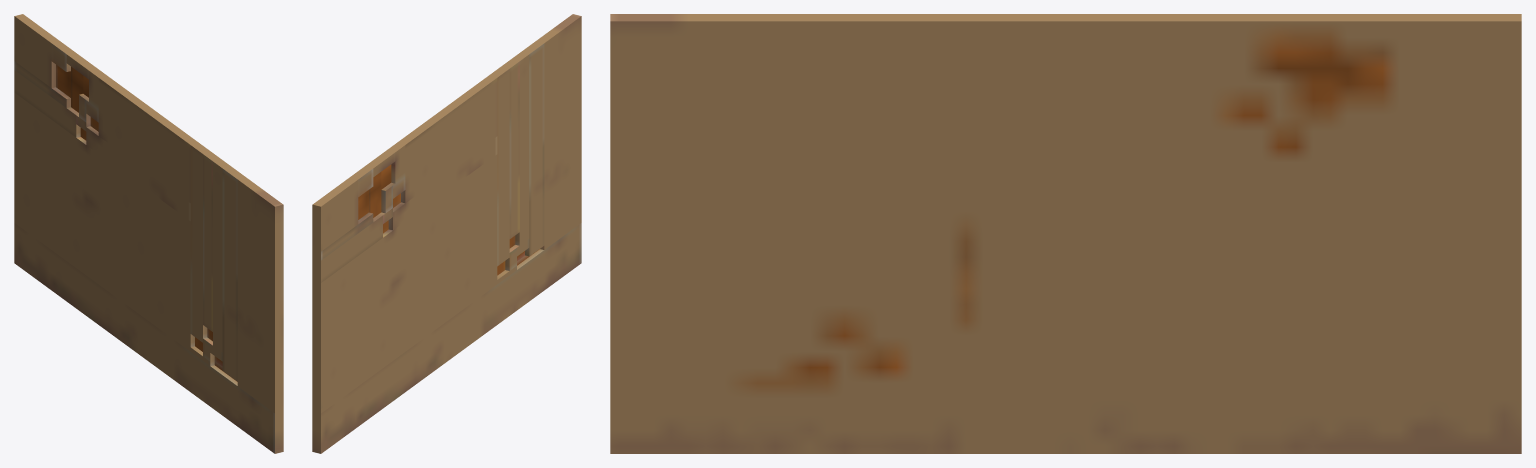
Rendered from WallBackMinimallyDamaged_B_00.obj.
The picture shows the model from 3 angles, left to right: view 1: azimuth 30°, elevation 25°; view 2: azimuth 150°, elevation 25°; view 3: azimuth 270°, elevation 25°; orthographic projection. The views are drawn at different scales.
Visible parts, largest first — view 1: WallBackMinimallyDamaged_B_00; view 2: WallBackMinimallyDamaged_B_00; view 3: WallBackMinimallyDamaged_B_00.
Boxes of the visible parts, x1,y1,x2,y2 form: WallBackMinimallyDamaged_B_00: [14, 14, 283, 453]; WallBackMinimallyDamaged_B_00: [312, 14, 581, 453]; WallBackMinimallyDamaged_B_00: [610, 14, 1521, 453].
Size of the model in its own units: 0.1 by 2.75 by 5.25.
